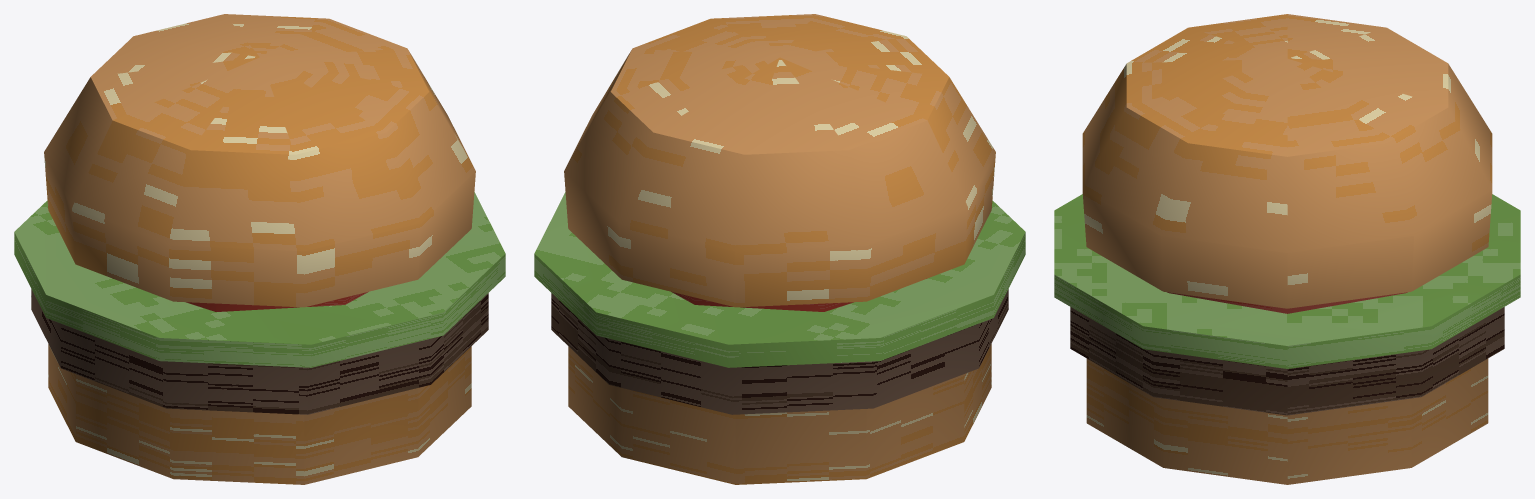
Rendered from burger.glb.
3 views of the same model, side by side, from view 1: azimuth 30°, elevation 25°; view 2: azimuth 150°, elevation 25°; view 3: azimuth 270°, elevation 25° (orthographic).
Visible parts, largest first — view 1: burger; view 2: burger; view 3: burger.
Part boxes in pixels (left/top/right/bottom): burger: left=14, top=14, right=505, bottom=484; burger: left=534, top=14, right=1025, bottom=484; burger: left=1054, top=14, right=1520, bottom=484.
Bounding box in the file's own units: 0.116 × 0.088 × 0.1103.
1 material, 1 textured.
